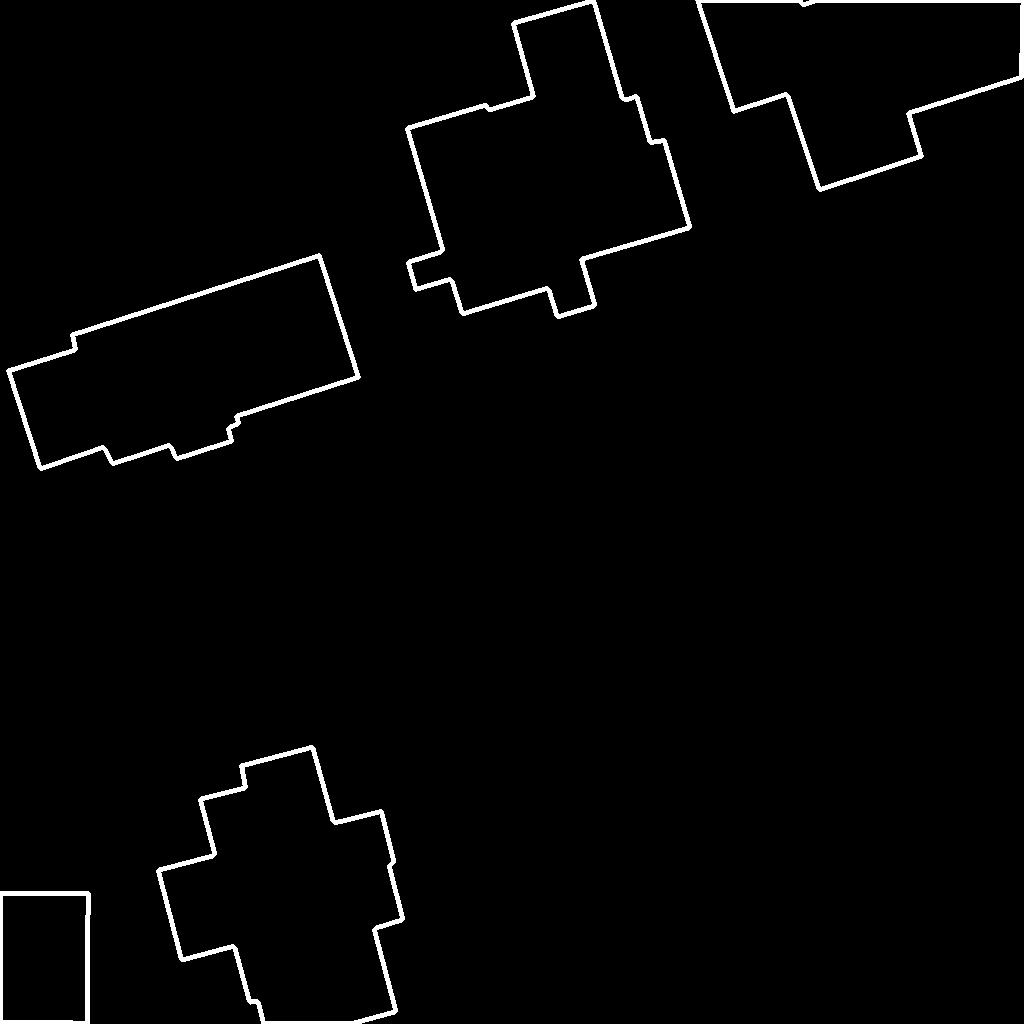building: (407, 0, 691, 318), (8, 255, 360, 470), (158, 747, 404, 1024), (697, 0, 1024, 191), (0, 893, 89, 1024)
